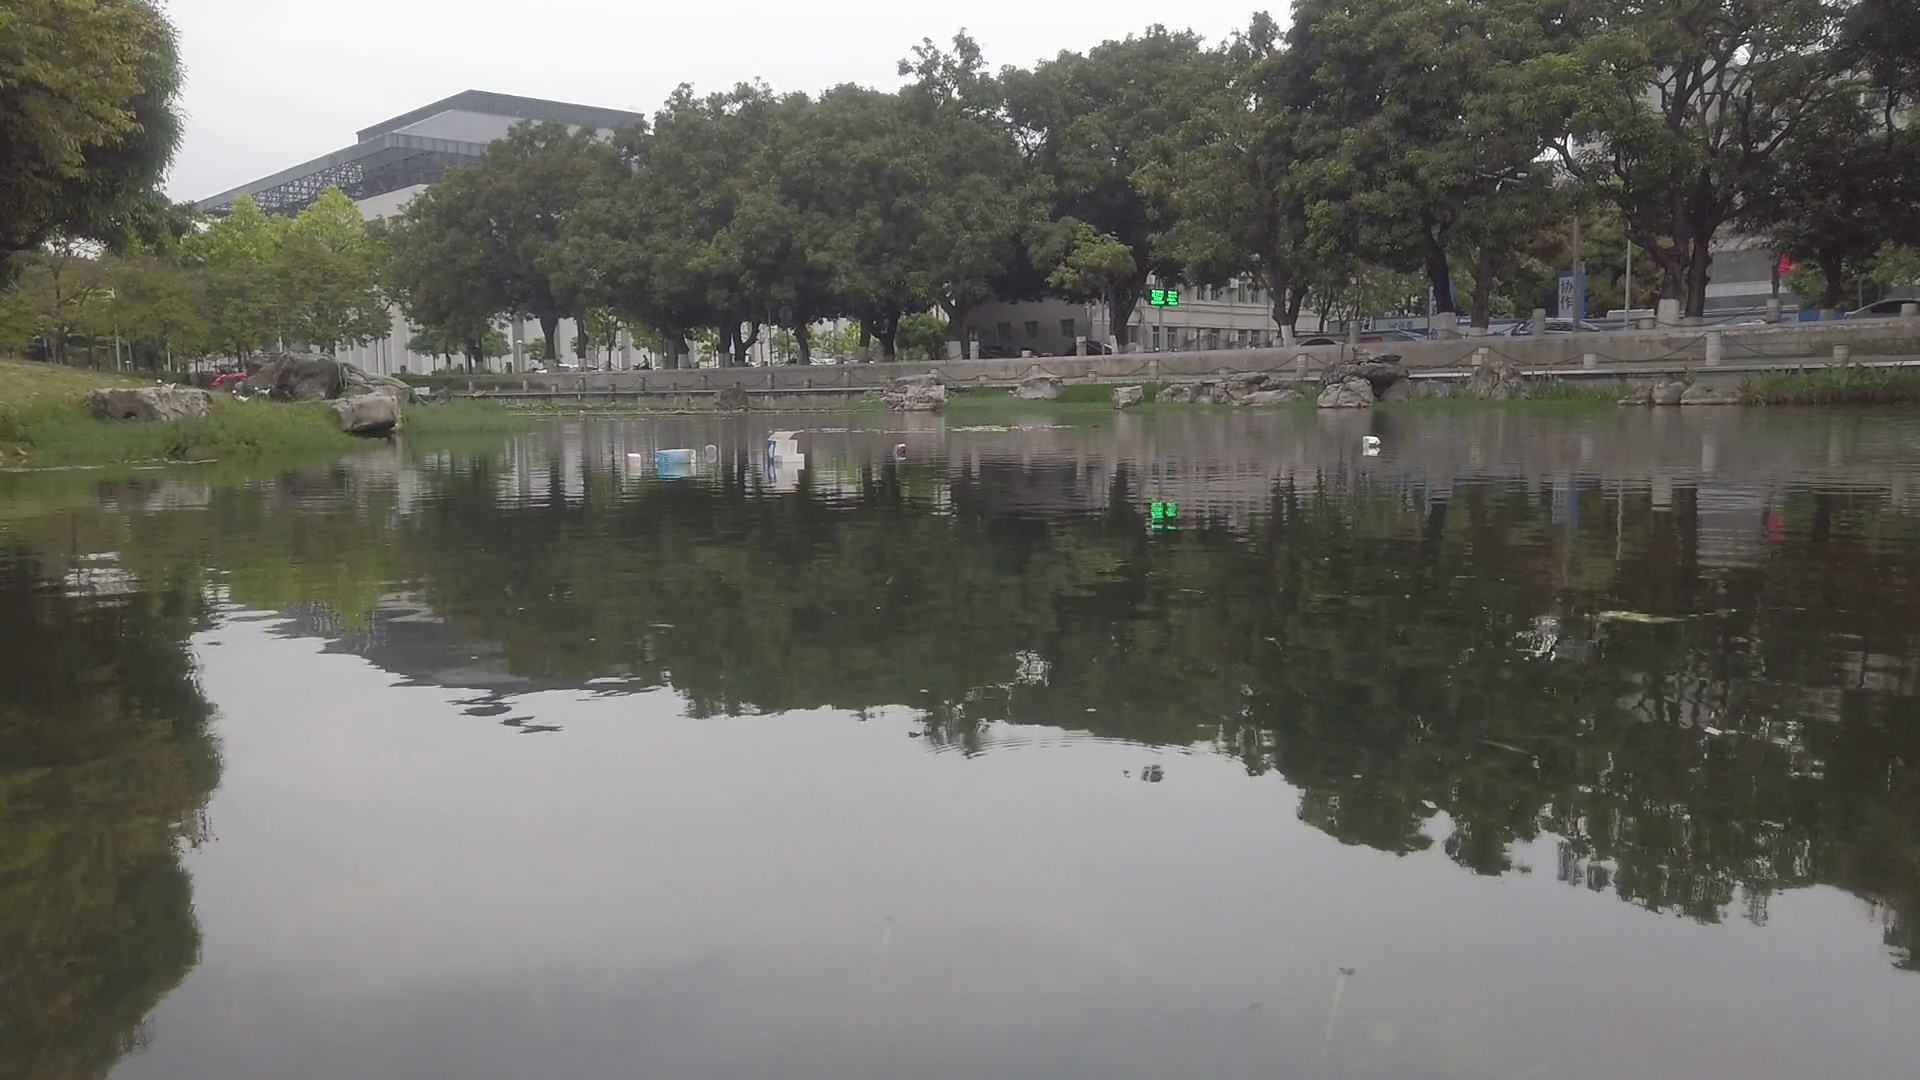bottle: (891, 442, 909, 456), (705, 440, 713, 460)
carton: (767, 430, 800, 467), (655, 448, 698, 467), (1362, 433, 1385, 451), (628, 451, 641, 469)
